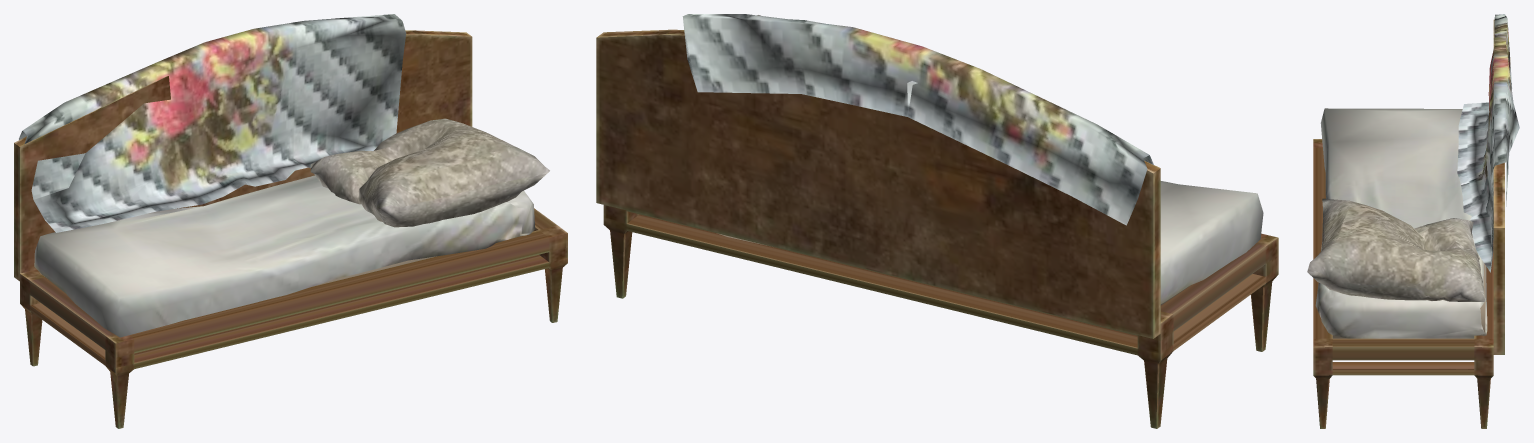
Rendered from vintage_day_bed.glb.
3 renders of one model, left to right at view 1: azimuth 30°, elevation 25°; view 2: azimuth 150°, elevation 25°; view 3: azimuth 270°, elevation 25°, orthographic. The views are drawn at different scales.
Visible parts, largest first — view 1: vintage_day_bed; view 2: vintage_day_bed; view 3: vintage_day_bed.
Boxes of the visible parts, bbox=[...] form: vintage_day_bed: bbox=[14, 14, 567, 428]; vintage_day_bed: bbox=[596, 14, 1278, 428]; vintage_day_bed: bbox=[1307, 14, 1519, 428].
Size of the model in its own units: 1.97 by 1.13 by 0.8506.
1 material, 1 textured.
